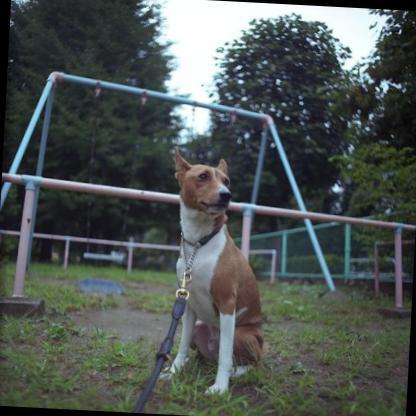basenji: (158, 141, 276, 398)
